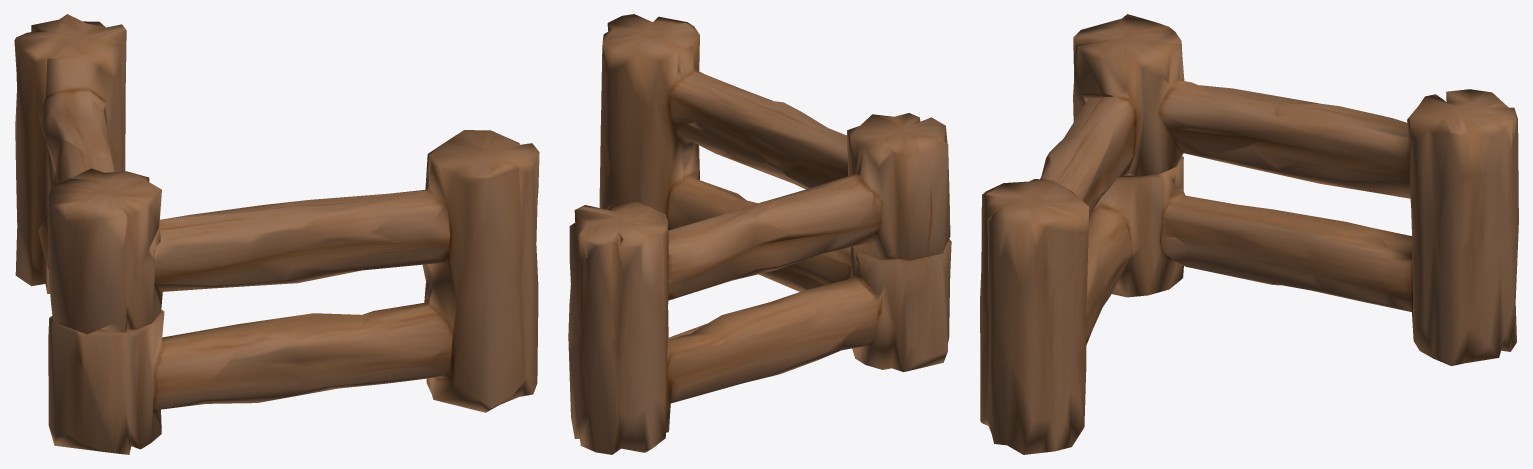
File: textures.glb
3 renders of one model, left to right at view 1: azimuth 30°, elevation 25°; view 2: azimuth 150°, elevation 25°; view 3: azimuth 270°, elevation 25°, orthographic. The views are drawn at different scales.
Parts seen in each view (by area): view 1: tripo_node_00bcba8c-05ad-4851-b55c-312dcc35e2cb; view 2: tripo_node_00bcba8c-05ad-4851-b55c-312dcc35e2cb; view 3: tripo_node_00bcba8c-05ad-4851-b55c-312dcc35e2cb.
Boxes of the visible parts, box(x1,y1,x2,y2) form: tripo_node_00bcba8c-05ad-4851-b55c-312dcc35e2cb: box(14, 14, 539, 454); tripo_node_00bcba8c-05ad-4851-b55c-312dcc35e2cb: box(568, 14, 951, 454); tripo_node_00bcba8c-05ad-4851-b55c-312dcc35e2cb: box(980, 14, 1518, 454).
Bounding box in the file's own units: 0.8966 × 0.4916 × 1.
Materials: 1 (1 with a texture image).
